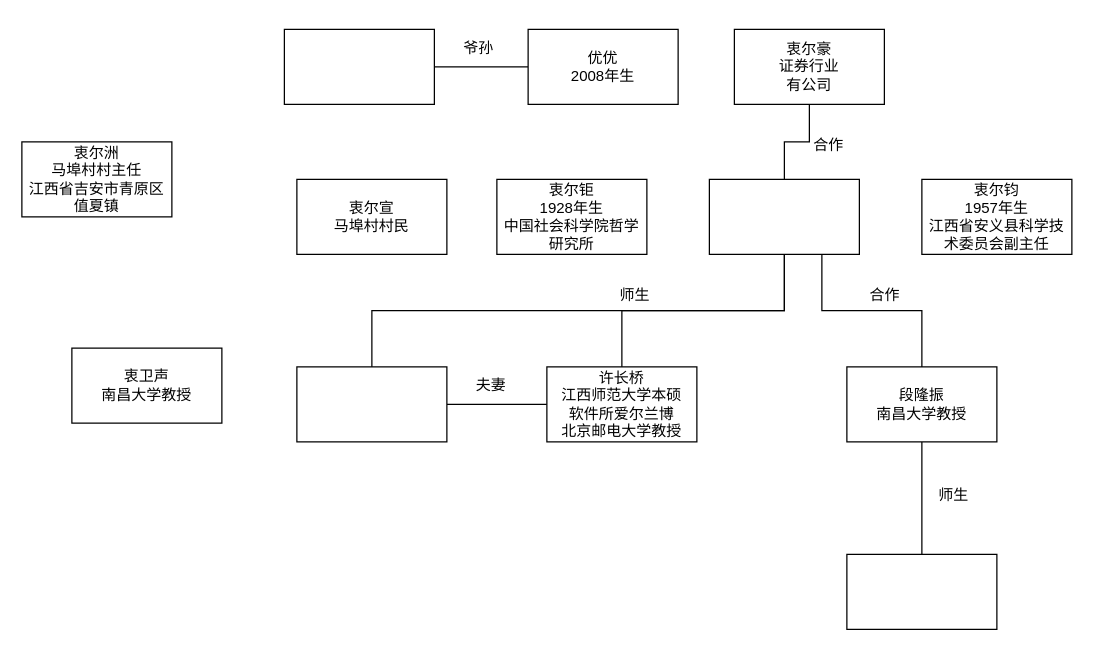
The diagram is 1094 pixels wide and 651 high, and some of its shapes have lost their labels. The shapes that lost their labels are listed below. From the top down, each one's centre as x and y in pixels, then its label:
At [358,66]: "衷仁保 1937生 南昌大学退休教授 计科学院院长 微博：不老松衷".
At [783,216]: "衷尔英 江西师范大学老师".
At [371,404]: "衷璐洁 江西师范大学本硕 软件所博 首都师范大学教授".
At [921,591]: "夏侯振宇 江西省网络安全研究院".
